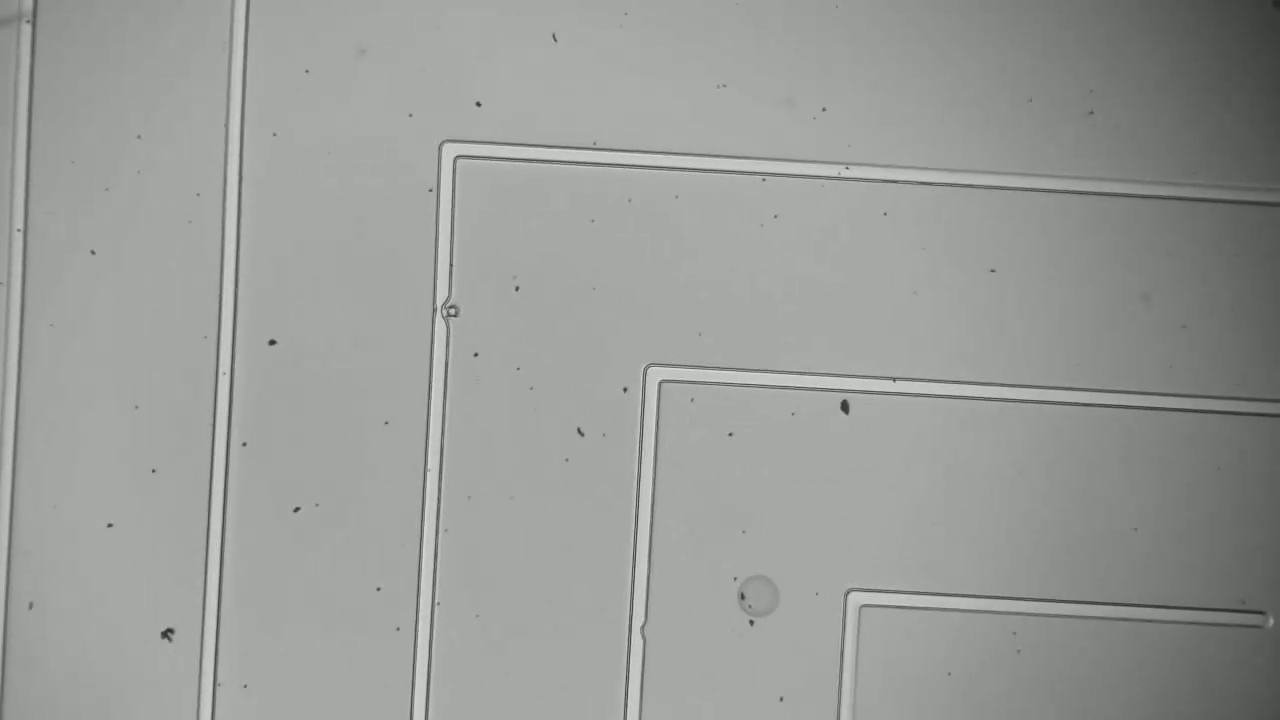edge_bite: (420, 285, 464, 336), (622, 611, 657, 653)
